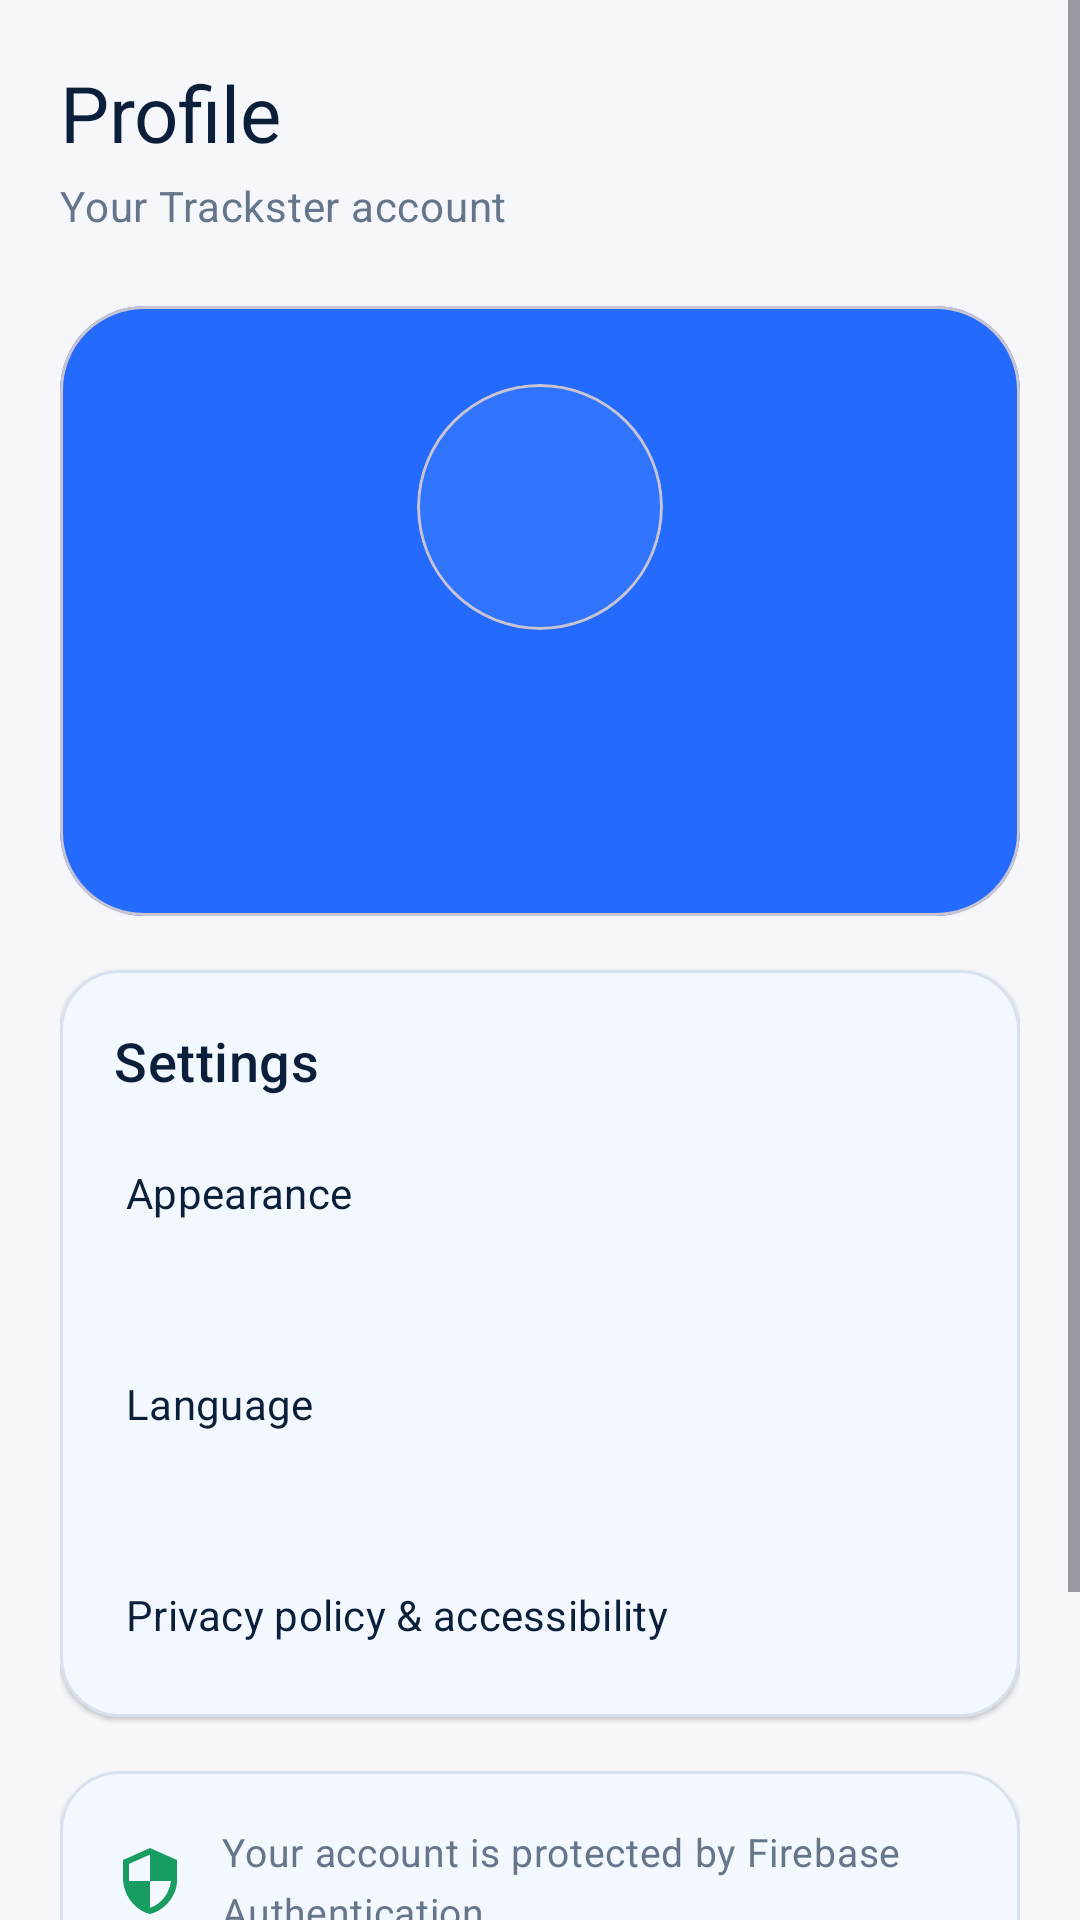

Named icons in this screenshot (1080 × 1920) and their bounding boxes, (x1, y1, x2, y2):
shield: (123, 1848, 177, 1914)
